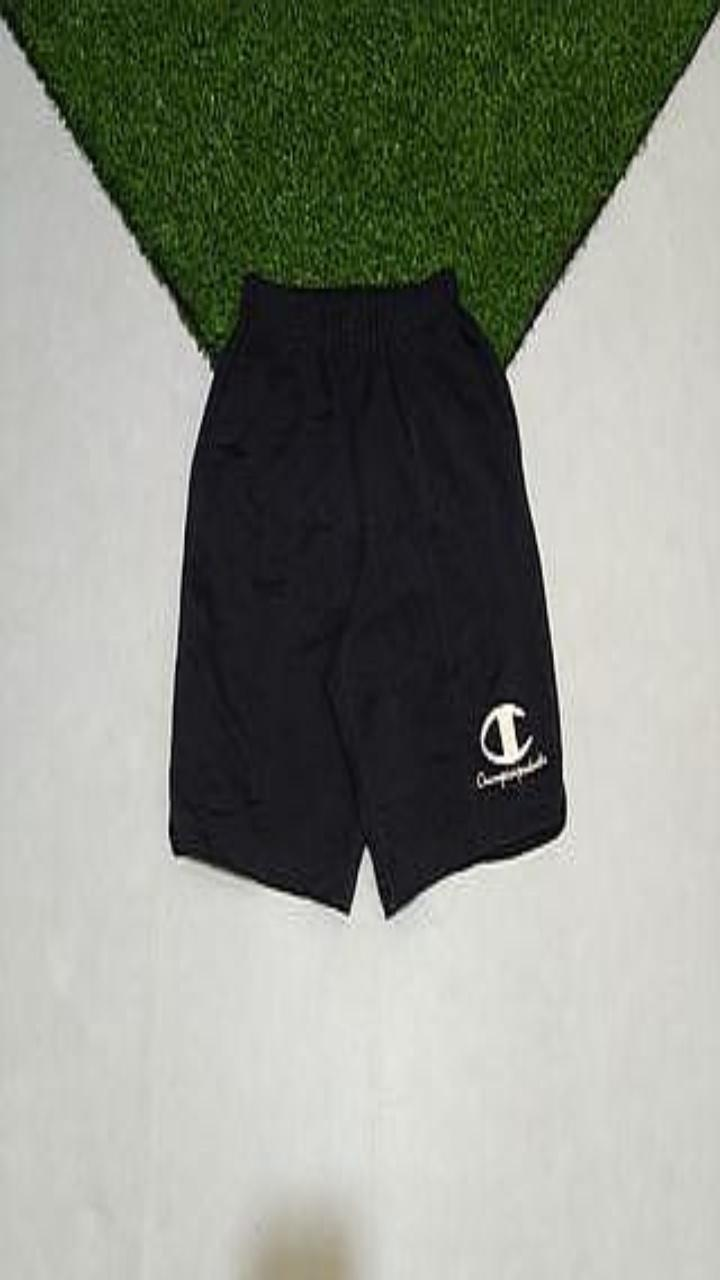Shorts: (169, 268, 565, 916)
